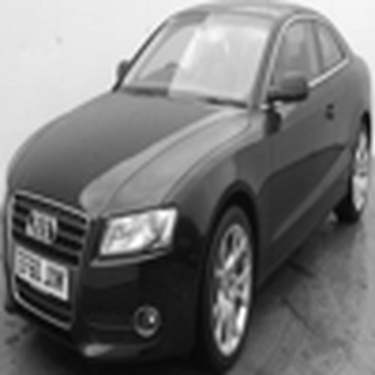car: (1, 9, 368, 371)
